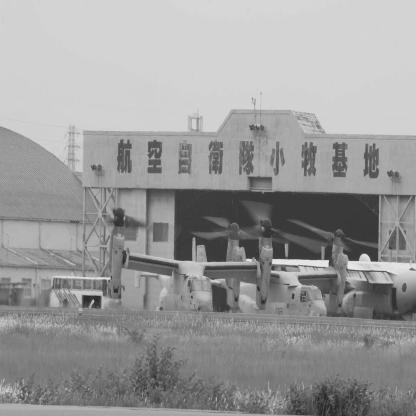C130: (247, 241, 416, 322)
V22: (68, 199, 329, 314), (191, 216, 384, 318)
